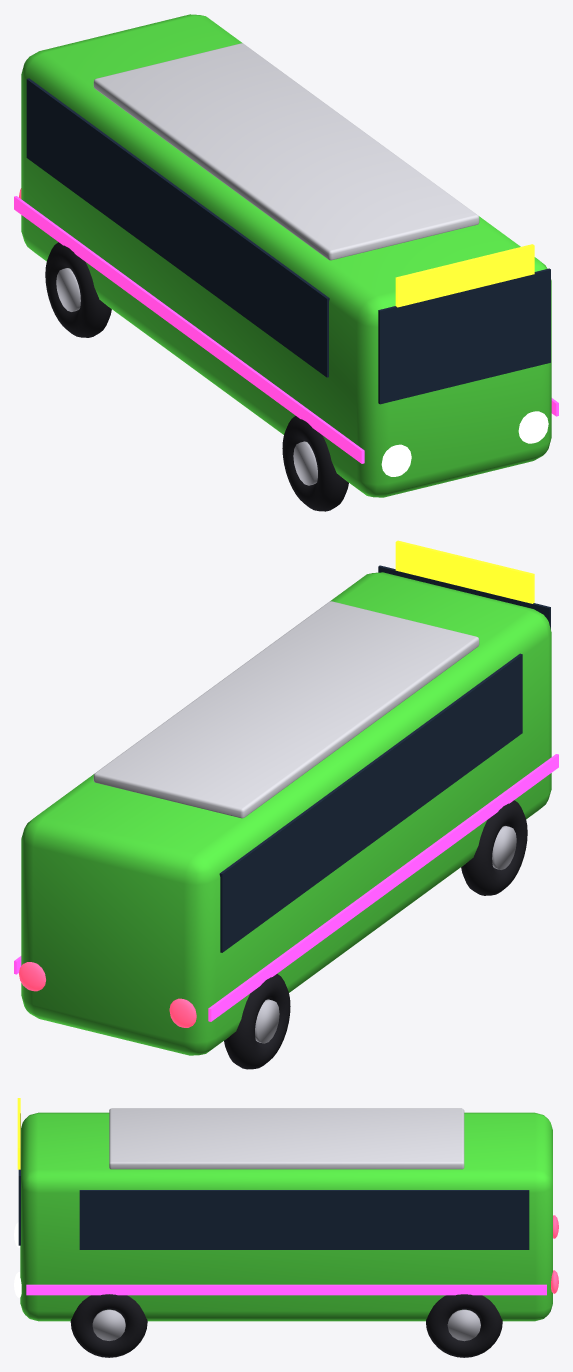
Rendered from bus.glb.
3 renders of one model, top to bottom at view 1: azimuth 30°, elevation 25°; view 2: azimuth 150°, elevation 25°; view 3: azimuth 270°, elevation 25°, orthographic. The views are drawn at different scales.
Visible parts, largest first — view 1: Cube, Cube.007, Cube.001, Cube.005, Cube.002, Cube.006, Torus.011, Torus.010, Cylinder.001, Cylinder, Sphere, Sphere.002; view 2: Cube, Cube.007, Cube.001, Cube.002, Cube.006, Torus.010, Torus.011, Cube.005, Cylinder, Cylinder.001, Sphere.003, Sphere.001; view 3: Cube, Cube.003, Cube.007, Cube.004, Torus.012, Torus.013, Cylinder.003, Cylinder.002.
Part boxes in pixels (box(x1,y1,x2,y2)): Cube: box(21, 14, 551, 497); Cube.007: box(93, 43, 479, 260); Cube.001: box(26, 78, 329, 377); Cube.005: box(378, 268, 550, 404); Cube.002: box(14, 196, 364, 463); Cube.006: box(395, 244, 534, 307); Torus.011: box(45, 242, 111, 337); Torus.010: box(282, 416, 348, 511); Cylinder.001: box(56, 268, 80, 311); Cylinder: box(293, 441, 317, 485); Sphere: box(381, 444, 411, 476); Sphere.002: box(518, 411, 548, 443); Cube: box(21, 572, 551, 1055); Cube.007: box(93, 601, 479, 818); Cube.001: box(219, 653, 522, 952); Cube.002: box(208, 754, 558, 1021); Cube.006: box(395, 540, 534, 603); Torus.010: box(461, 800, 527, 895); Torus.011: box(224, 974, 290, 1069); Cube.005: box(378, 565, 550, 629); Cylinder: box(492, 826, 516, 869); Cylinder.001: box(255, 999, 279, 1043); Sphere.003: box(19, 962, 45, 991); Sphere.001: box(169, 998, 196, 1027); Cube: box(20, 1112, 552, 1321); Cube.003: box(79, 1190, 529, 1249); Cube.007: box(109, 1108, 464, 1169); Cube.004: box(26, 1284, 546, 1295); Torus.012: box(70, 1294, 147, 1357); Torus.013: box(426, 1294, 502, 1357); Cylinder.003: box(447, 1309, 480, 1341); Cylinder.002: box(92, 1309, 125, 1340).
Size of the model in its own units: 3 by 3.75 by 9.21.
